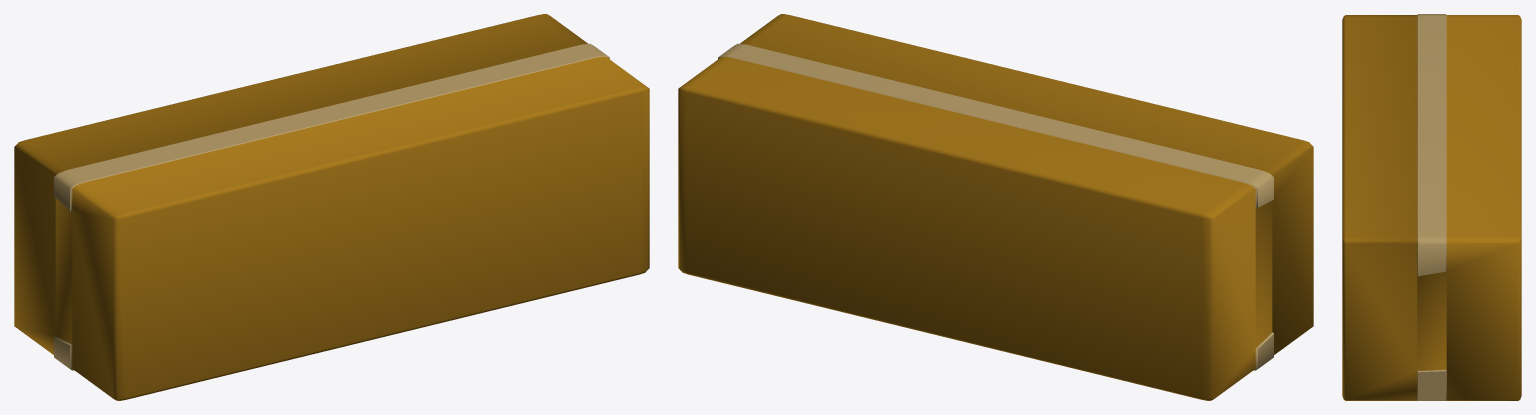
3 renders of one model, left to right at view 1: azimuth 30°, elevation 25°; view 2: azimuth 150°, elevation 25°; view 3: azimuth 270°, elevation 25°, orthographic. The views are drawn at different scales.
Visible parts, largest first — view 1: 3x1x1; view 2: 3x1x1; view 3: 3x1x1.
Boxes of the visible parts, left/top/right/bottom form: 3x1x1: left=14, top=14, right=649, bottom=400; 3x1x1: left=678, top=14, right=1313, bottom=400; 3x1x1: left=1342, top=14, right=1521, bottom=400.
Size of the model in its own units: 30.23 by 10.04 by 10.
